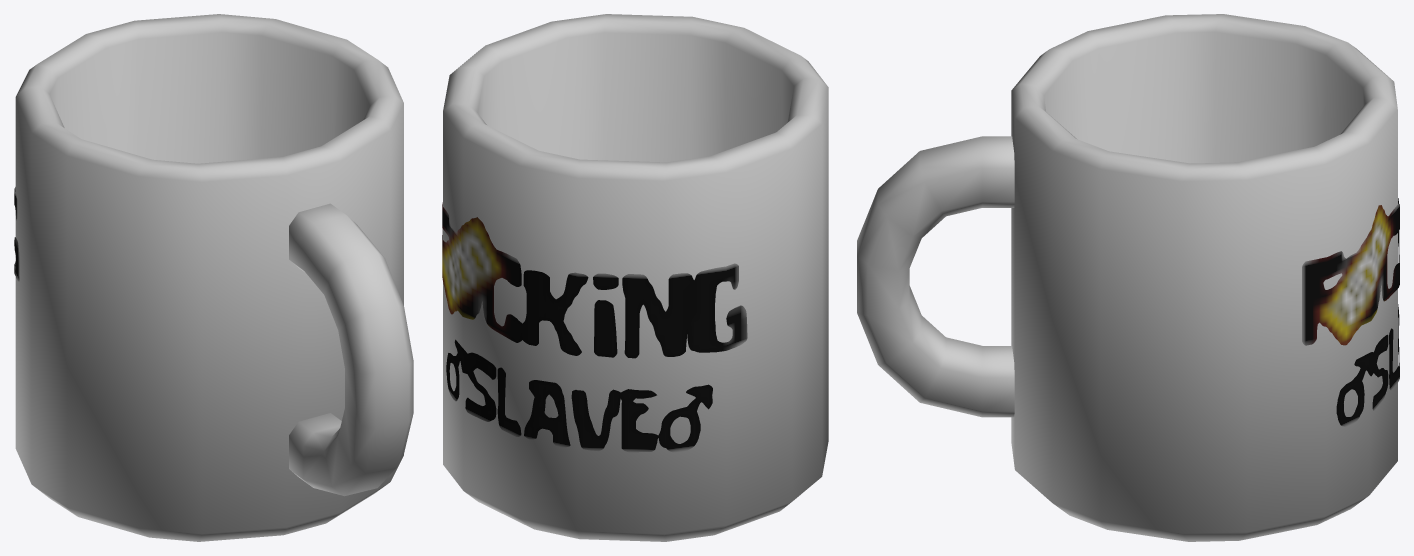
The model's file is Mug_FuckingSlave.fbx.
3 views of the same model, side by side, from view 1: azimuth 30°, elevation 25°; view 2: azimuth 150°, elevation 25°; view 3: azimuth 270°, elevation 25° (orthographic).
Visible parts, largest first — view 1: Mug_FuckingSlave; view 2: Mug_FuckingSlave; view 3: Mug_FuckingSlave.
Boxes of the visible parts, box(x1,y1,x2,y2) form: Mug_FuckingSlave: box(14, 14, 413, 541); Mug_FuckingSlave: box(442, 14, 828, 541); Mug_FuckingSlave: box(857, 14, 1399, 541).
Bounding box in the file's own units: 22.54 × 24.19 × 31.63.
